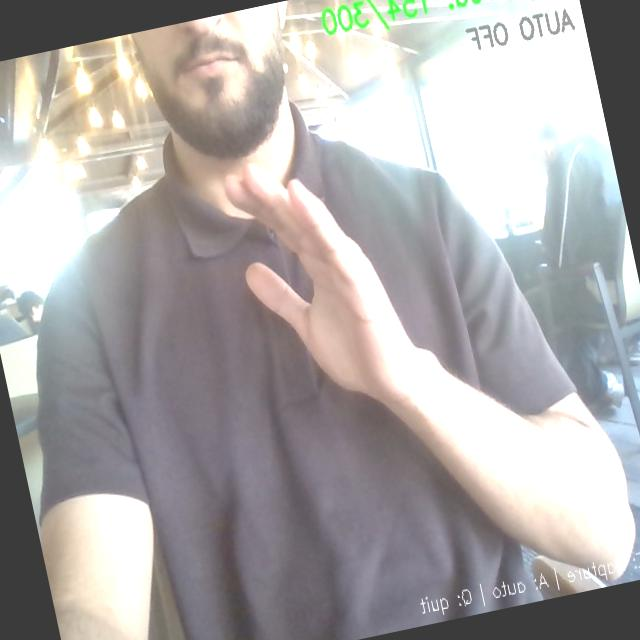Hand: (225, 165, 422, 406)
